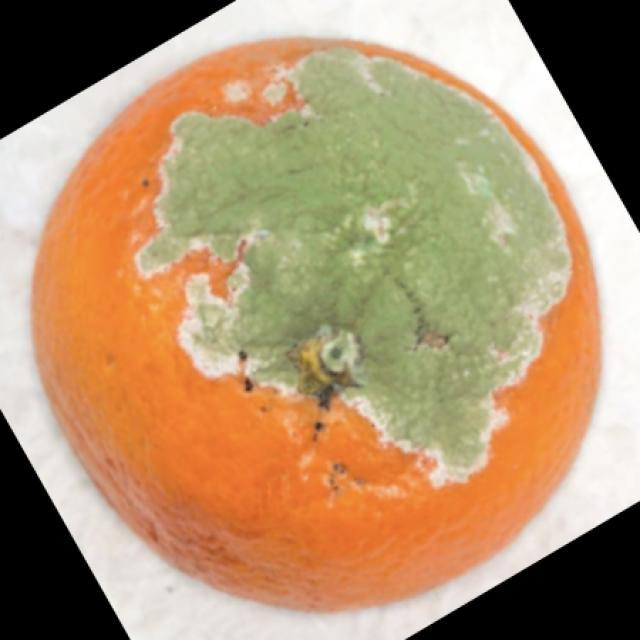sedikit-busuk: (33, 38, 600, 609), (153, 71, 556, 467)
